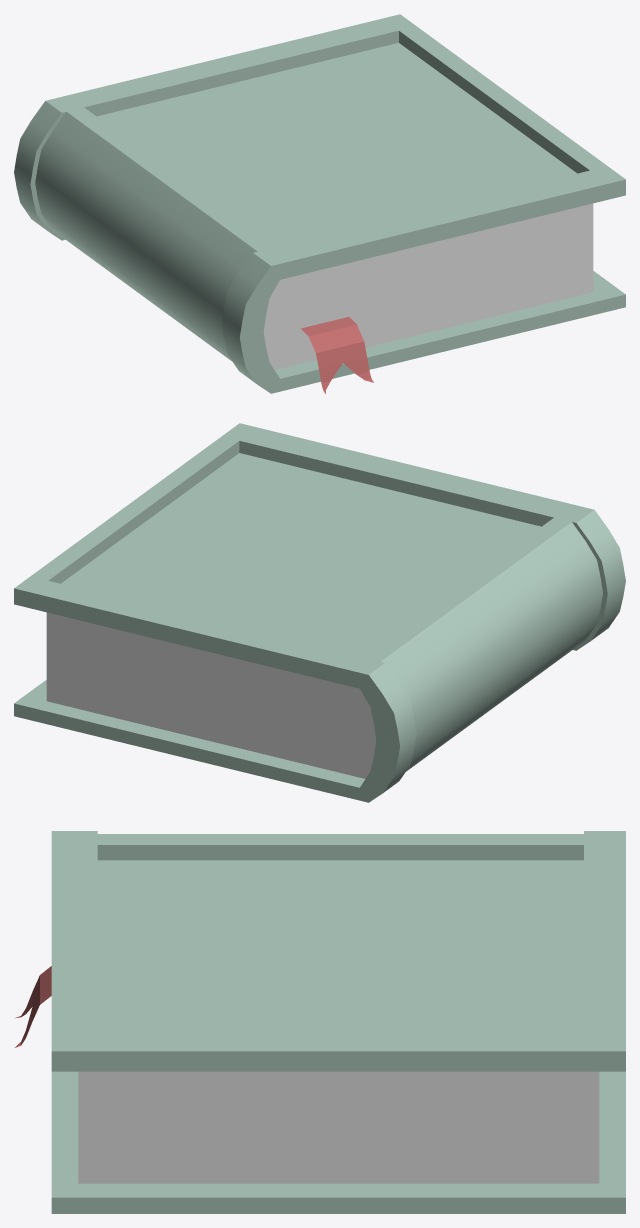
File: Book_1.fbx
3 renders of one model, top to bottom at view 1: azimuth 30°, elevation 25°; view 2: azimuth 150°, elevation 25°; view 3: azimuth 270°, elevation 25°, orthographic. The views are drawn at different scales.
Visible parts, largest first — view 1: Book_1; view 2: Book_1; view 3: Book_1.
Part boxes in pixels (left/top/right/bottom): Book_1: left=14, top=14, right=625, bottom=393; Book_1: left=14, top=423, right=625, bottom=802; Book_1: left=14, top=831, right=625, bottom=1213.
Bounding box in the file's own units: 98.61 × 31.19 × 106.
